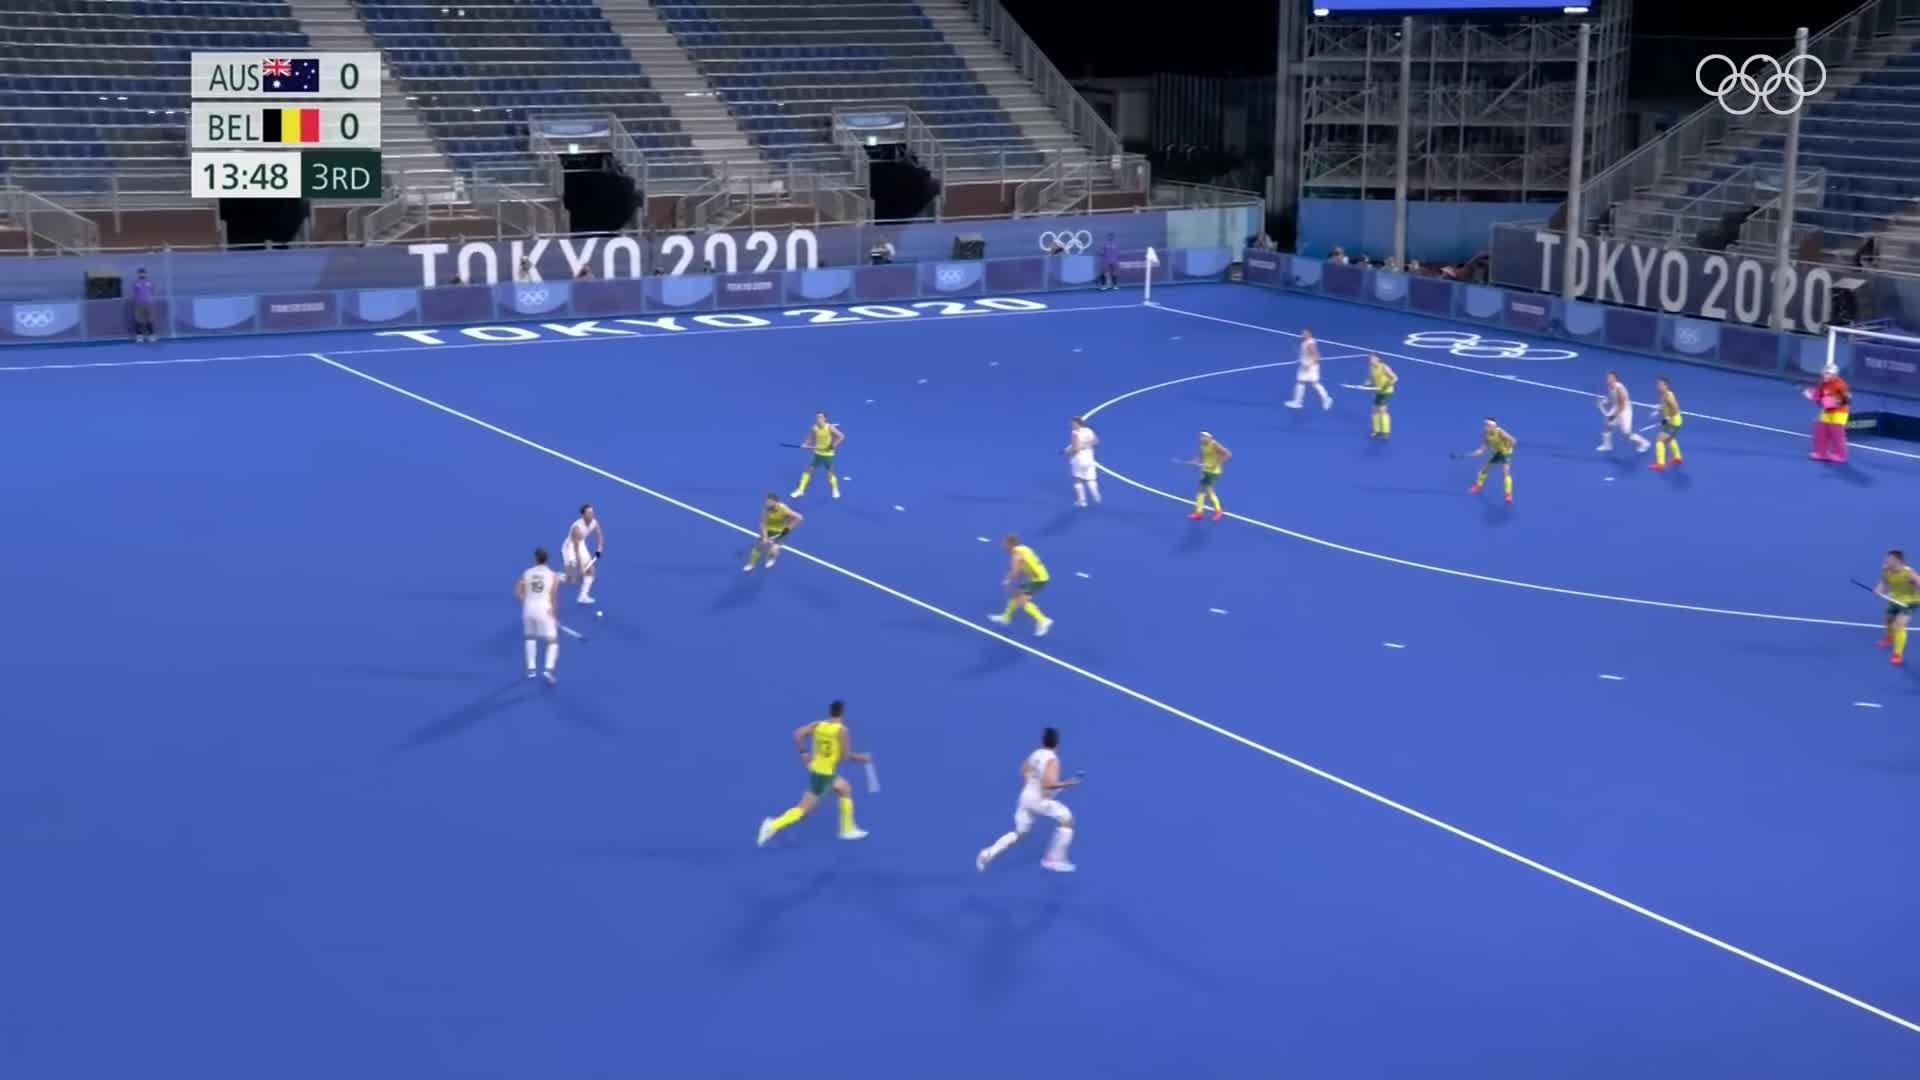ball: (593, 608, 607, 618)
